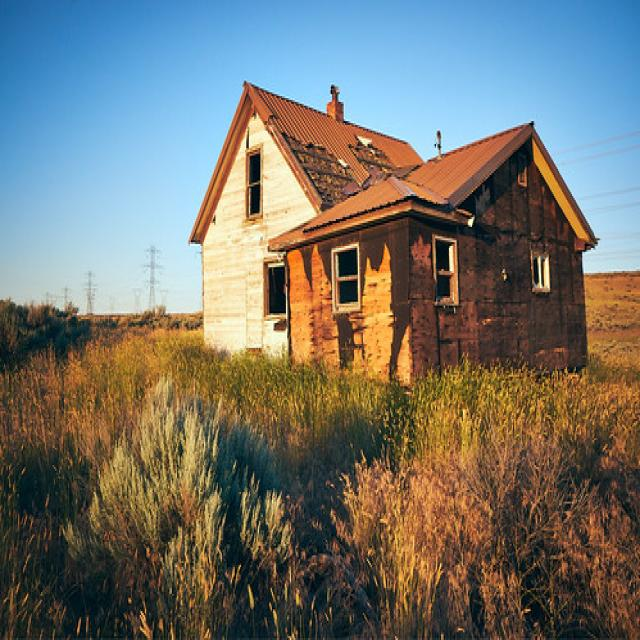Normal_building: (191, 69, 604, 402)
